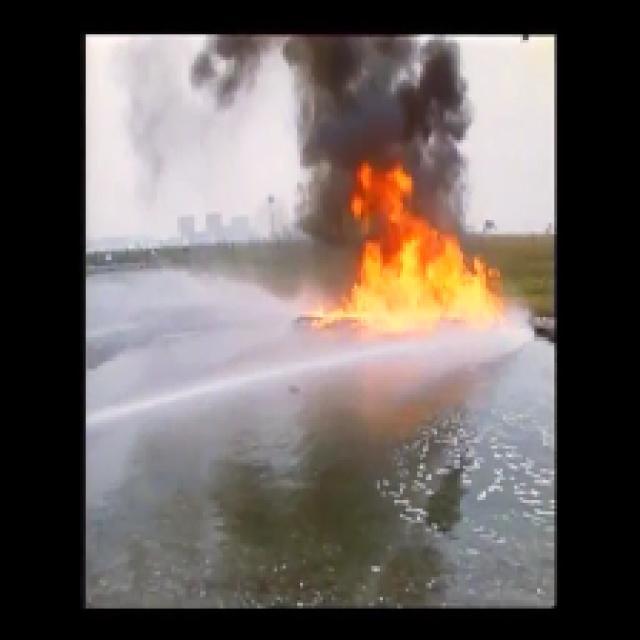fire: (325, 228, 509, 332)
smoke: (192, 36, 467, 156)
